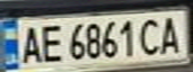1: (115, 17, 139, 57)
6: (63, 19, 87, 61), (100, 18, 121, 60)
8: (84, 19, 103, 61)
A: (157, 12, 187, 55), (15, 23, 45, 66)
C: (136, 16, 163, 56)
E: (36, 21, 63, 64)
